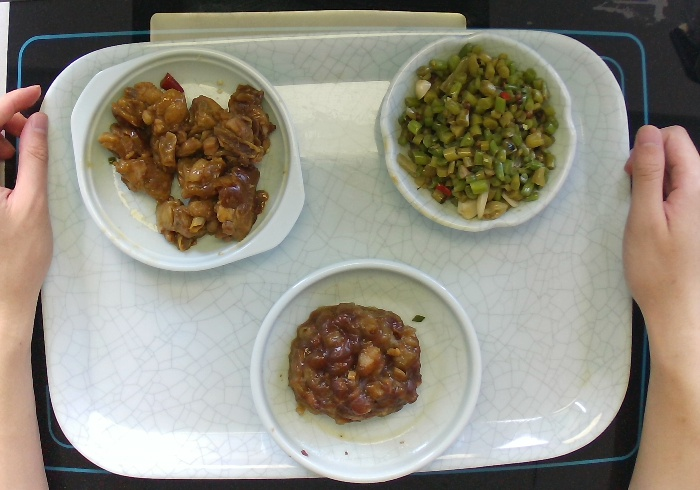JYsf-Ao_Yuan_Wan: (377, 31, 579, 233)
JYsf-Shuang_Er_Pan: (69, 46, 307, 273)
JYsf-Xiao_Yuan_Pan: (248, 257, 483, 485)
